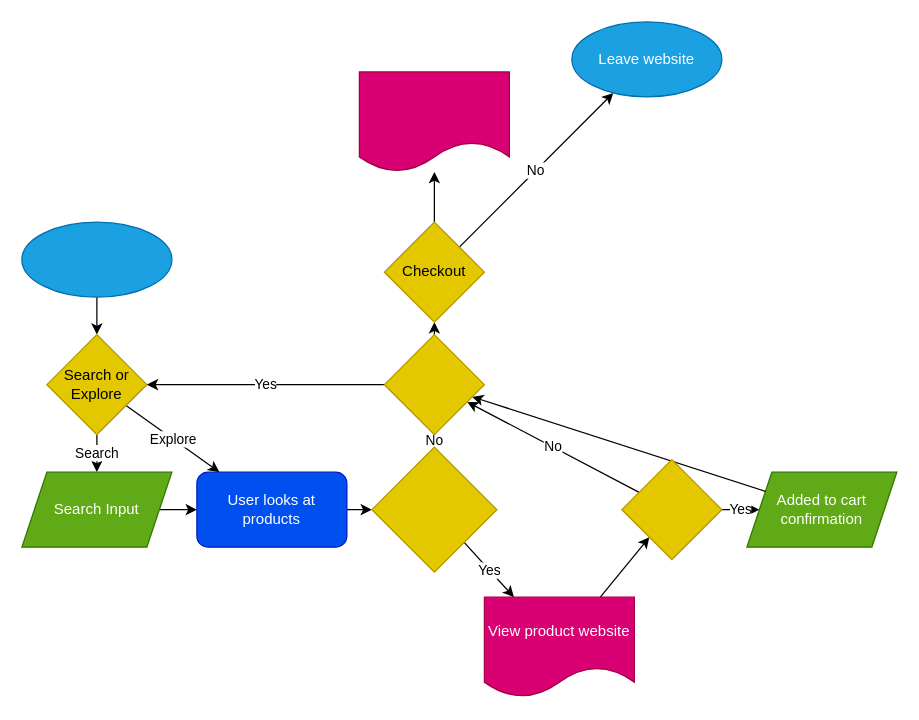
This 919x720 diagram has some shape labels left out. Each missing label, with the box of its shape:
Add to cart: (621, 458, 722, 560)
Continue shopping: (383, 333, 484, 435)
User enters site: (21, 221, 172, 297)
View specific product: (371, 446, 497, 572)
